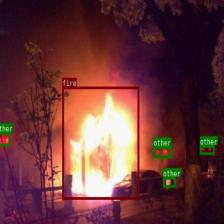fire: (62, 86, 139, 199)
